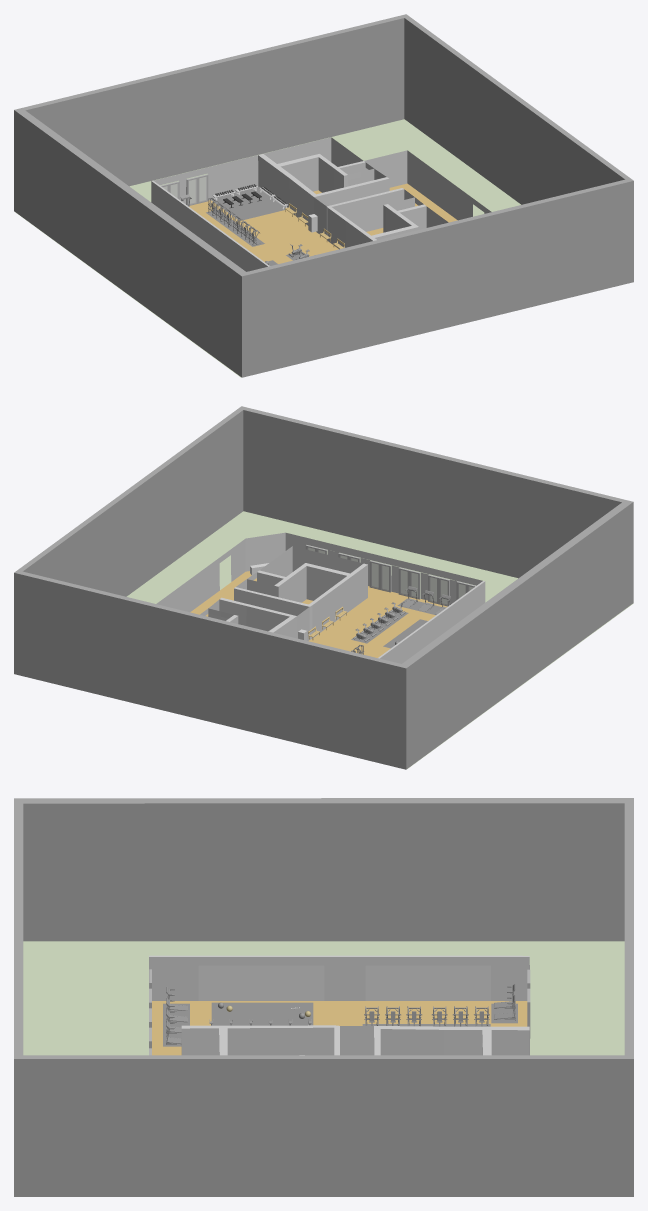
File: traning2.fbx
The picture shows the model from 3 angles, top to bottom: view 1: azimuth 30°, elevation 25°; view 2: azimuth 150°, elevation 25°; view 3: azimuth 270°, elevation 25°; orthographic projection. The views are drawn at different scales.
Parts seen in each view (by area): view 1: 立方体.004, room, 平面.002, 平面.001, 立方体.018; view 2: 立方体.004, room, 平面.002, 立方体.014, 立方体.013, 円柱.006, 立方体.012; view 3: 立方体.004, 平面.002, room, 立方体, 立方体.010, 平面.005, 立方体.001, 立方体.006, 立方体.005, 平面.004.
Boxes of the visible parts, left/top/right/bottom form: 立方体.004: left=14, top=14, right=633, bottom=377; room: left=151, top=137, right=491, bottom=271; 平面.002: left=15, top=119, right=520, bottom=377; 平面.001: left=210, top=186, right=287, bottom=220; 立方体.018: left=186, top=174, right=208, bottom=205; 立方体.004: left=14, top=406, right=633, bottom=769; room: left=156, top=532, right=485, bottom=663; 平面.002: left=126, top=511, right=633, bottom=768; 立方体.014: left=369, top=560, right=391, bottom=592; 立方体.013: left=398, top=567, right=420, bottom=599; 円柱.006: left=353, top=602, right=405, bottom=642; 立方体.012: left=428, top=574, right=449, bottom=606; 立方体.004: left=14, top=798, right=633, bottom=1196; 平面.002: left=23, top=941, right=624, bottom=1055; room: left=149, top=955, right=529, bottom=1055; 立方体: left=198, top=965, right=324, bottom=1000; 立方体.010: left=365, top=965, right=490, bottom=1000; 平面.005: left=211, top=1002, right=313, bottom=1025; 立方体.001: left=166, top=986, right=187, bottom=1044; 立方体.006: left=431, top=1006, right=489, bottom=1026; 立方体.005: left=364, top=1006, right=422, bottom=1026; 平面.004: left=163, top=1003, right=189, bottom=1046.
Size of the model in its own units: 13230 by 3263 by 13278.
